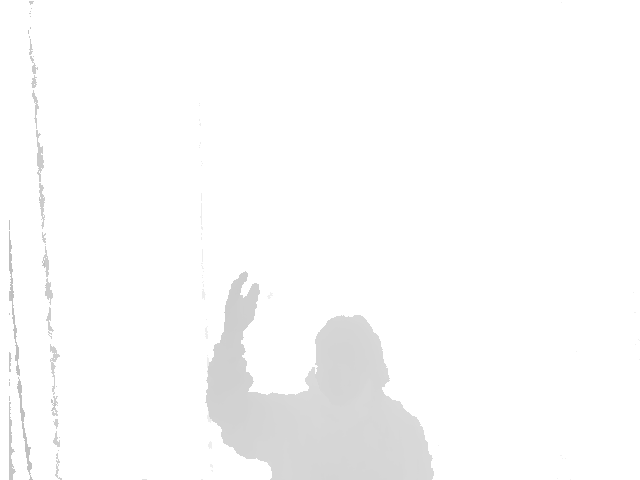hand: (219, 272, 260, 340)
head: (306, 313, 390, 395)
person: (207, 271, 435, 480)
